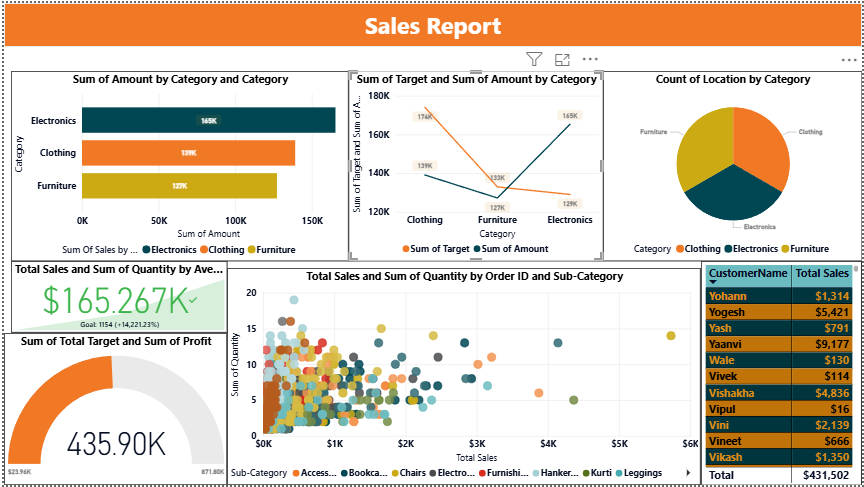

What the dashboard file says about the page in this screenshot:
{"tool":"powerbi","page":{"name":"DAshBoard","canvas":[1280,720],"ordinal":0},"visuals":[{"type":"shape","box":[0,0,1280.6,65.7],"z":0},{"type":"tableEx","fields":{"Values":["List of Orders.CustomerName","List of Orders.Total Sales"]},"box":[1039.8,385.5,239.8,334.9],"z":1000},{"type":"lineChart","fields":{"Category":["Order - Profit.Category"],"Y":["Sum(Sales target.Target)","Sum(Order Details.Amount)"]},"box":[514.9,101.5,379.1,283.6],"z":2000},{"type":"barChart","fields":{"Y":["Sum(Order Details.Amount)"],"Category":["Order - Profit.Category"],"Series":["Order - Profit.Category"]},"box":[10,101,504,284],"z":3000},{"type":"pieChart","fields":{"Category":["Order Details.Category"],"Y":["CountNonNull(List of Orders.Location)"]},"box":[894,101.5,386.6,283.6],"z":4000},{"type":"kpi","fields":{"Indicator":["List of Orders.Total Sales"],"TrendLine":["Order - Profit.Average Profit"],"Goal":["Sum(Order Details.Quantity)"]},"box":[10,385.7,322.9,107.1],"z":5000},{"type":"gauge","fields":{"Y":["Sum(Sales target - Summary.Total Target)"],"MinValue":["Sum(Order Details.Profit)"]},"box":[0,492.9,332.9,227.1],"z":6000},{"type":"scatterChart","fields":{"Category":["List of Orders.Order ID"],"X":["List of Orders.Total Sales"],"Series":["Order Details.Sub-Category"],"Y":["Sum(Order Details.Quantity)"]},"box":[332.8,395.5,707.5,323.9],"z":7000}]}

Visuals, with their boxes in screenshot pixels (x1, y1, x2, y2), scaled from the page's 1280x720 canvas onto the 864x487 screenshot:
shape: x1=0 y1=0 x2=863 y2=44
tableEx - List of Orders.CustomerName x List of Orders.Total Sales: x1=702 y1=261 x2=863 y2=486
lineChart - Order - Profit.Category x Sum(Sales target.Target): x1=348 y1=69 x2=603 y2=260
barChart - Sum(Order Details.Amount) x Order - Profit.Category: x1=7 y1=68 x2=347 y2=260
pieChart - Order Details.Category x CountNonNull(List of Orders.Location): x1=603 y1=69 x2=863 y2=260
kpi - List of Orders.Total Sales x Order - Profit.Average Profit: x1=7 y1=261 x2=225 y2=333
gauge - Sum(Sales target - Summary.Total Target) x Sum(Order Details.Profit): x1=0 y1=333 x2=225 y2=486
scatterChart - List of Orders.Order ID x List of Orders.Total Sales: x1=225 y1=268 x2=702 y2=486
